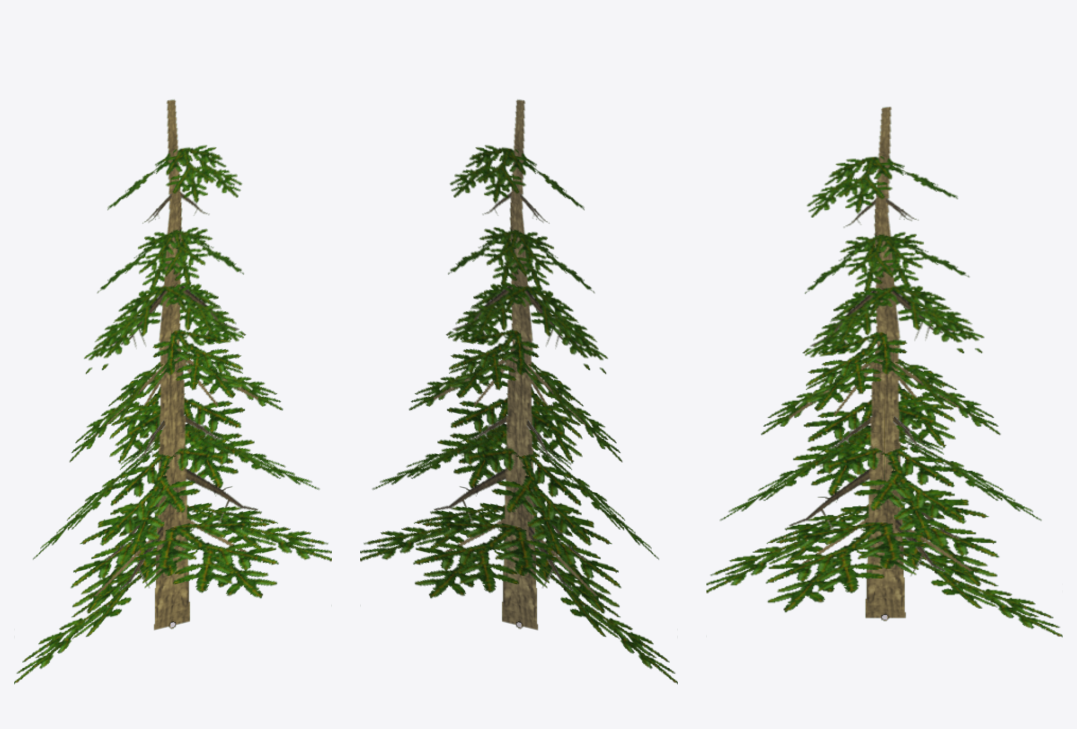
The model's file is treelow1.glb.
The picture shows the model from 3 angles, left to right: view 1: azimuth 30°, elevation 25°; view 2: azimuth 150°, elevation 25°; view 3: azimuth 270°, elevation 25°; orthographic projection. The views are drawn at different scales.
Visible parts, largest first — view 1: tree_1Low.png__; view 2: tree_1Low.png__; view 3: tree_1Low.png__.
Boxes of the visible parts, x1,y1,x2,y2 form: tree_1Low.png__: [14, 99, 331, 684]; tree_1Low.png__: [360, 99, 677, 684]; tree_1Low.png__: [706, 106, 1062, 637].
Bounding box in the file's own units: 2 × 3.41 × 2.
1 material, 1 textured.
